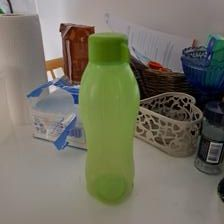bottle: (81, 26, 143, 204)
